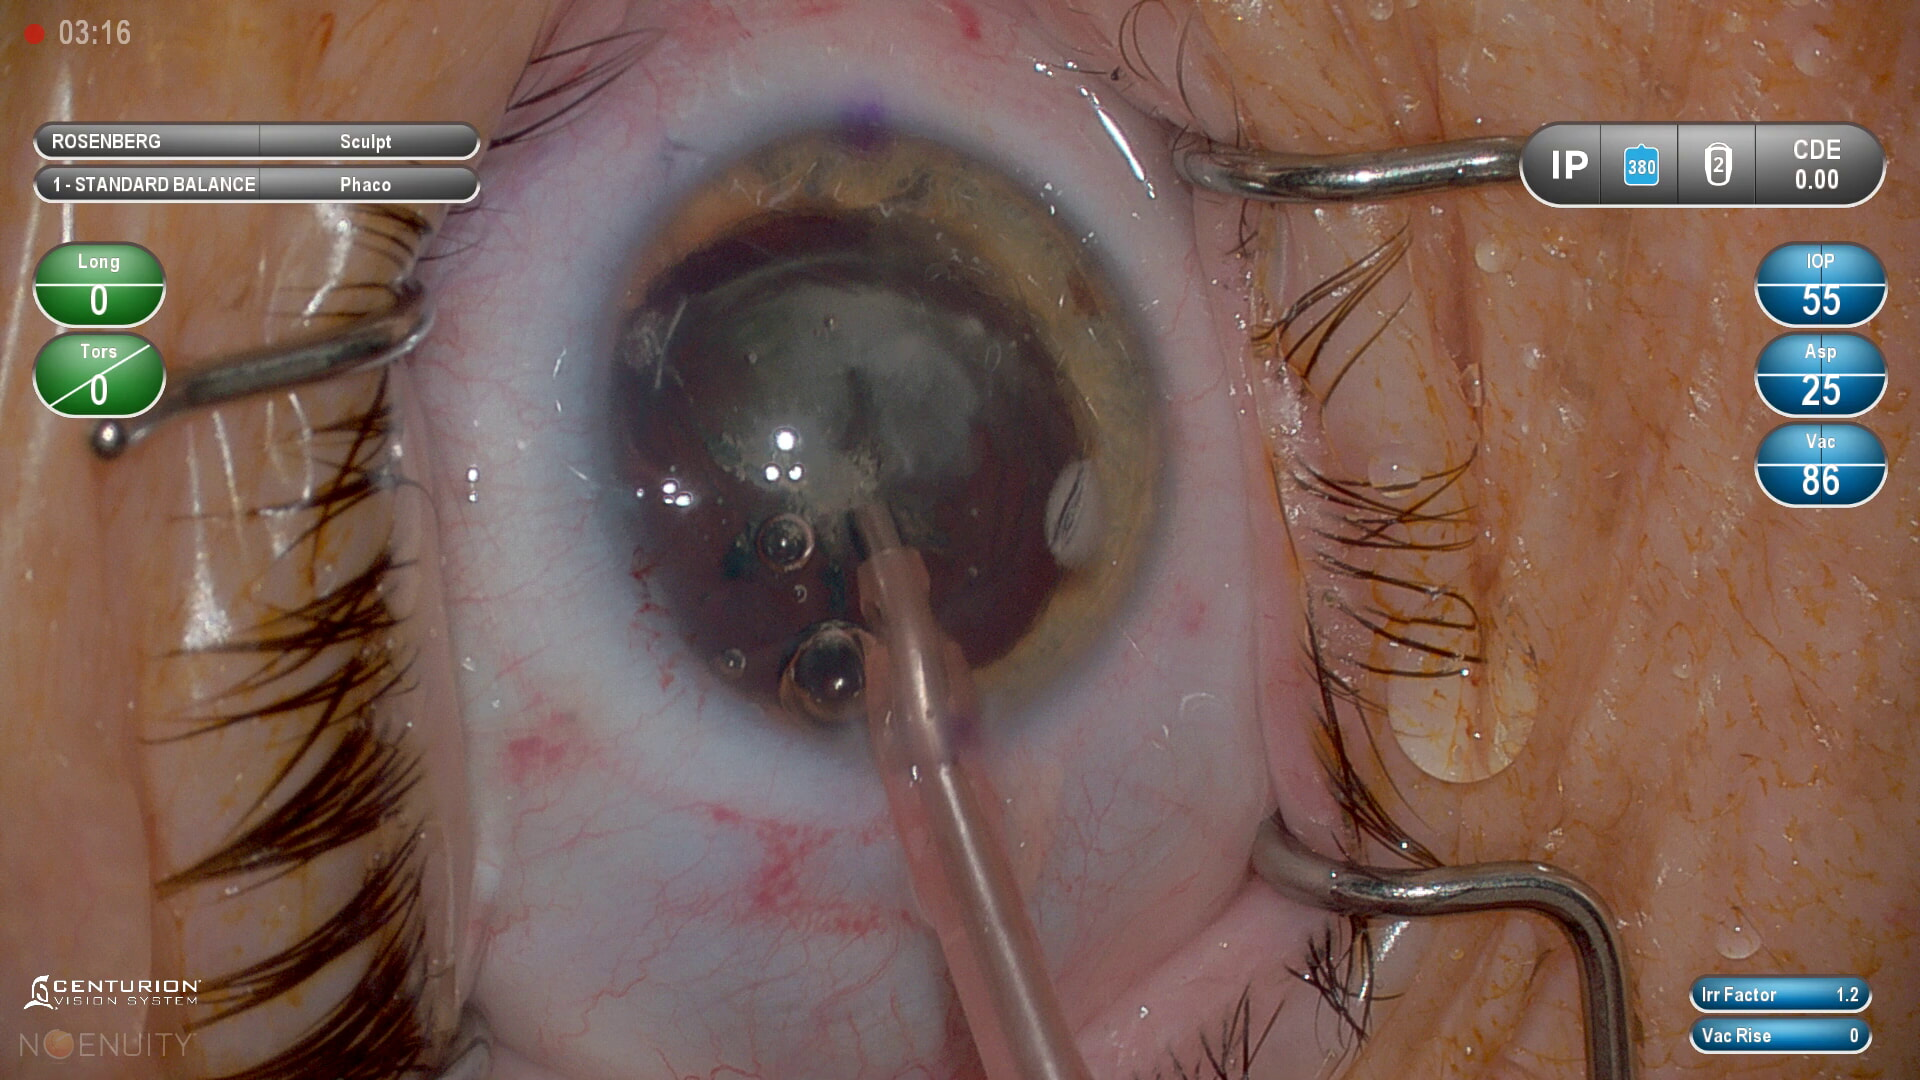iris: (598, 131, 1169, 739)
pupil: (627, 217, 1079, 704)
